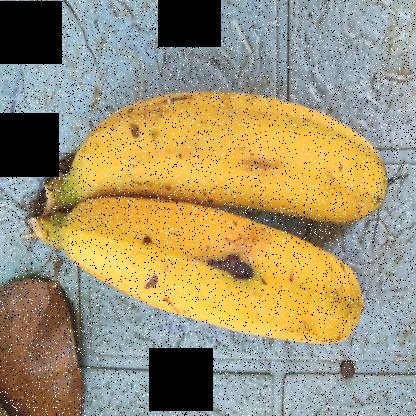freshripe: (80, 72, 399, 217)
ripe: (67, 208, 375, 398)
